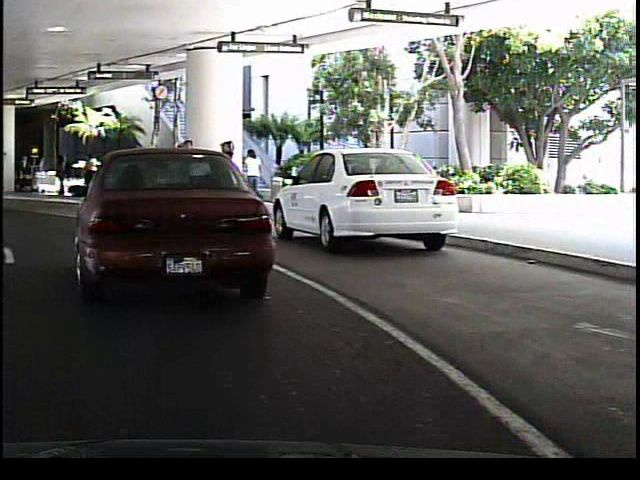person: (170, 134, 199, 207), (211, 135, 235, 209), (239, 145, 265, 206), (51, 149, 71, 202), (83, 155, 91, 196)
